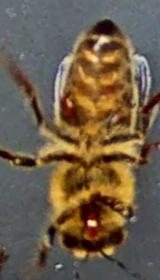varroa_mite: (56, 88, 84, 120)
